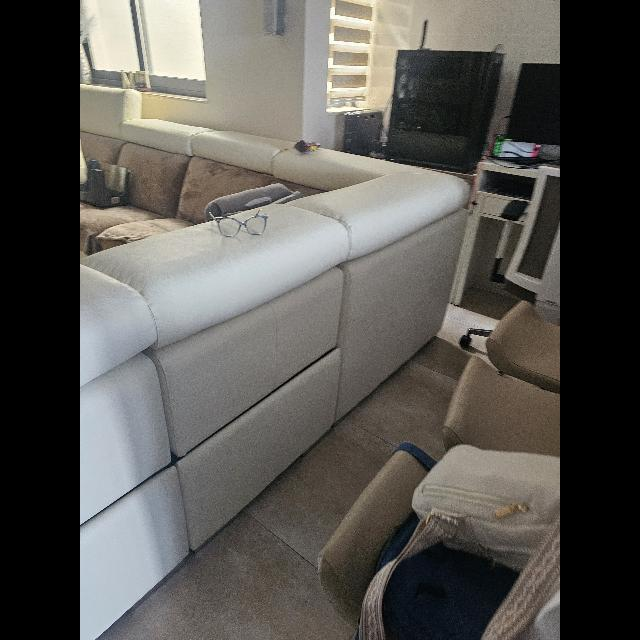glasses: (210, 209, 268, 237)
